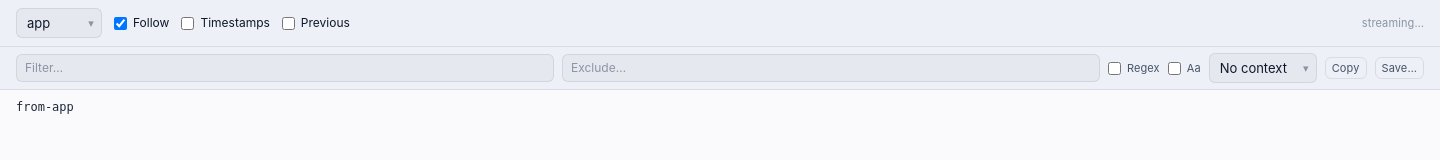
LogViewer › clears the previous container's lines when switching
Check: the text "from-app" is shown, box x1=16 y1=100 x2=74 y2=114
Select "sidecar" in the dropdown named "Container" at (59, 23), box x1=16 y1=8 x2=102 y2=38
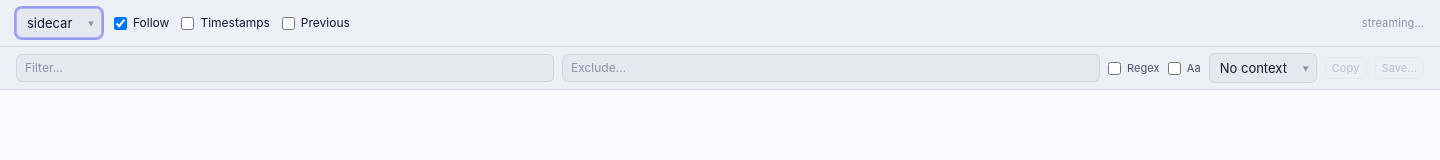
Check: the text "from-app" is gone
